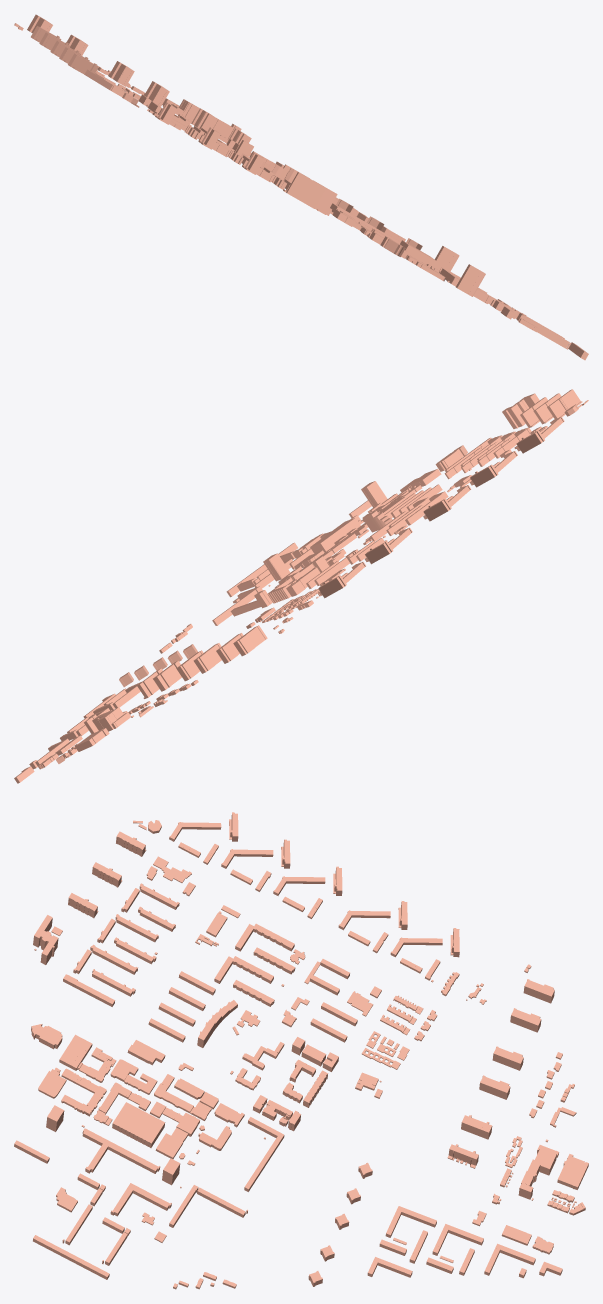
The picture shows the model from 3 angles, top to bottom: view 1: azimuth 30°, elevation 25°; view 2: azimuth 150°, elevation 25°; view 3: azimuth 270°, elevation 25°; orthographic projection. The views are drawn at different scales.
Bounding box in the file's own units: 958 × 743 × 1285.
